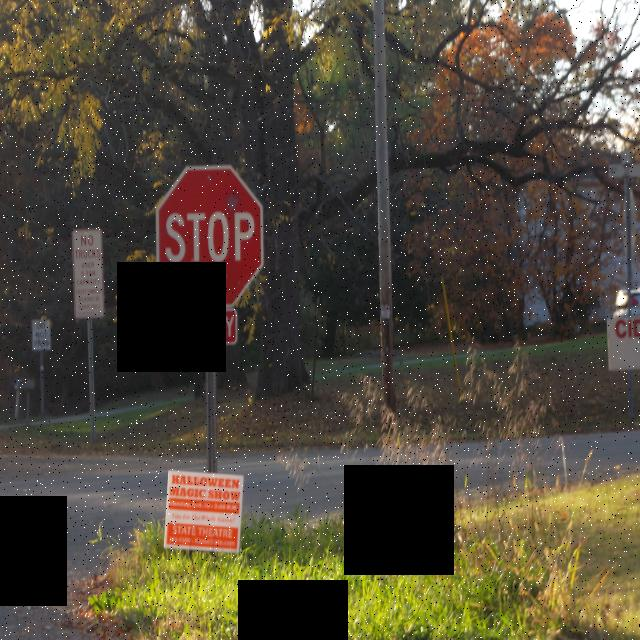regulatory: (71, 227, 106, 320), (31, 318, 51, 352)
stop: (152, 156, 268, 312)
